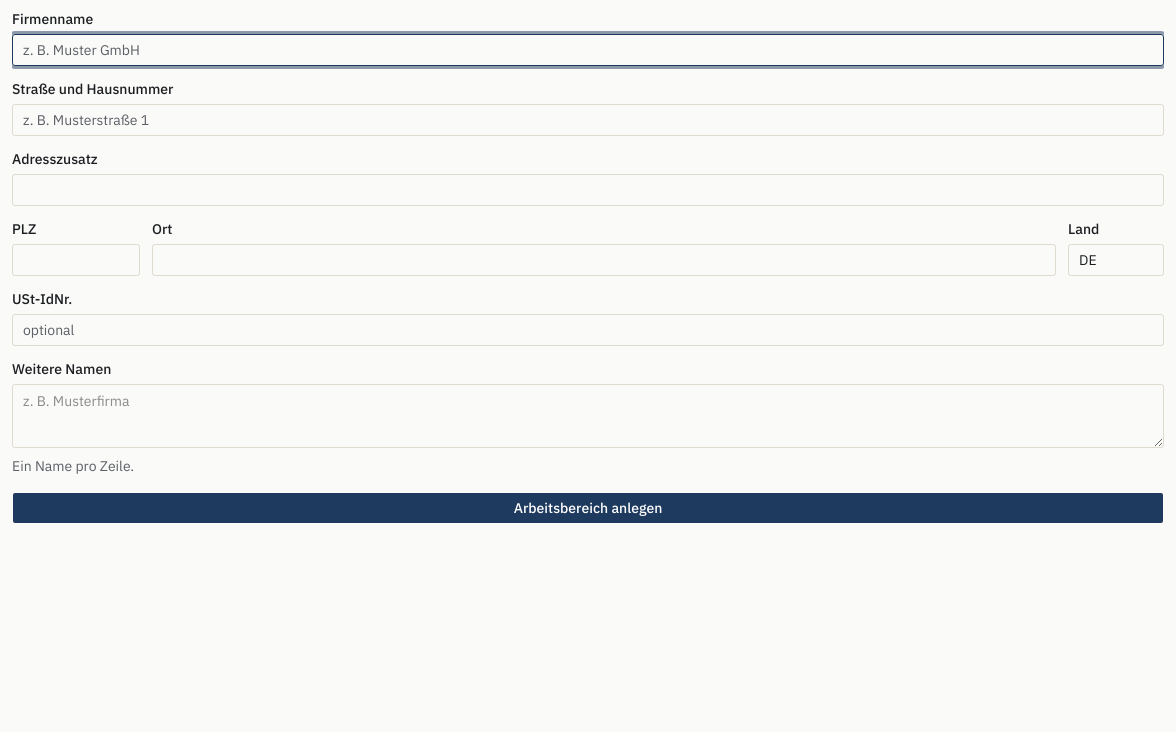
OnboardingForm › shows the mapped error message and does not redirect when the action returns an error
The image size is (1176, 732).
Type "Muster GmbH" into the field labelled "Firmenname". click: [588, 50]
box: [12,34,1164,66]
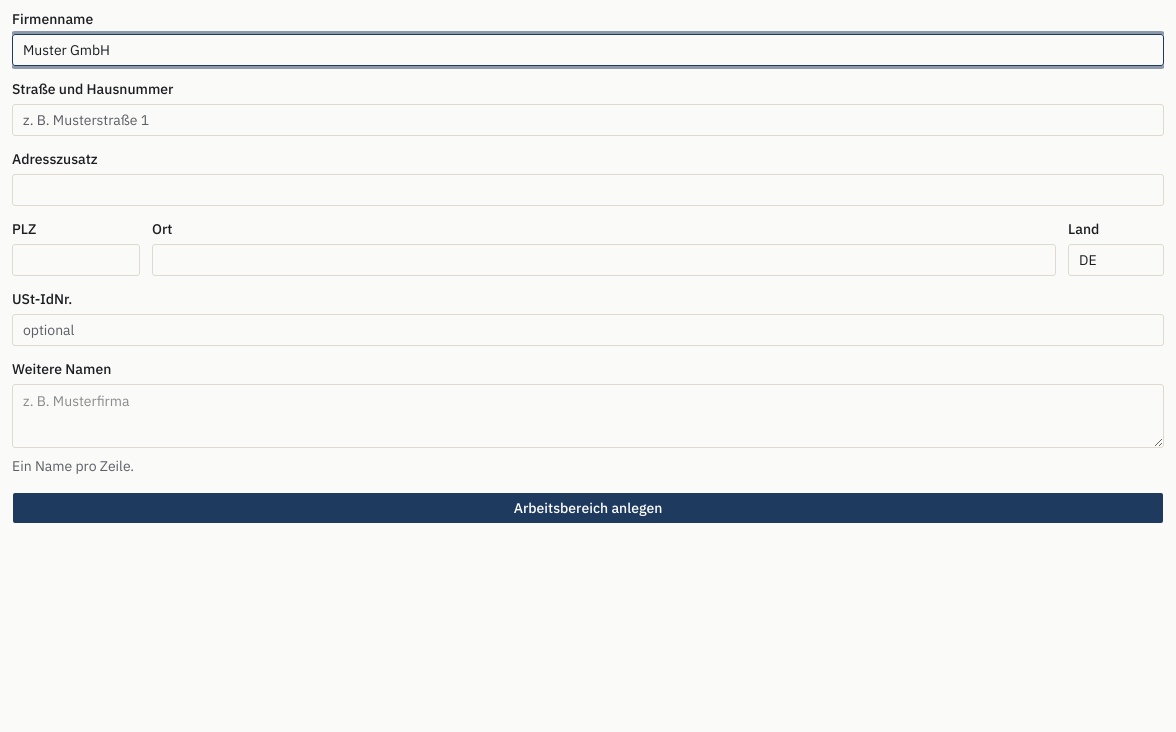
Type "Musterstraße 1" into the field labelled "Straße und Hausnummer". click: [588, 120]
box: [12,104,1164,136]
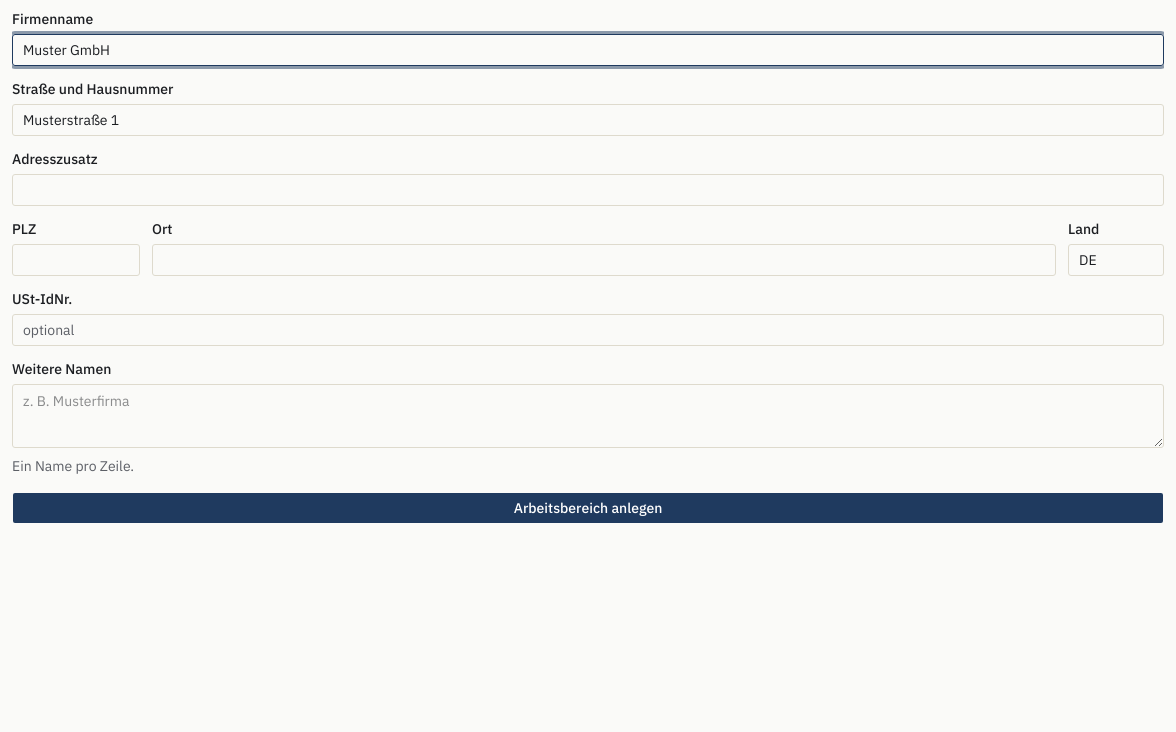
Type "10115" into the field labelled "PLZ". click: [76, 260]
box: [12,244,140,276]
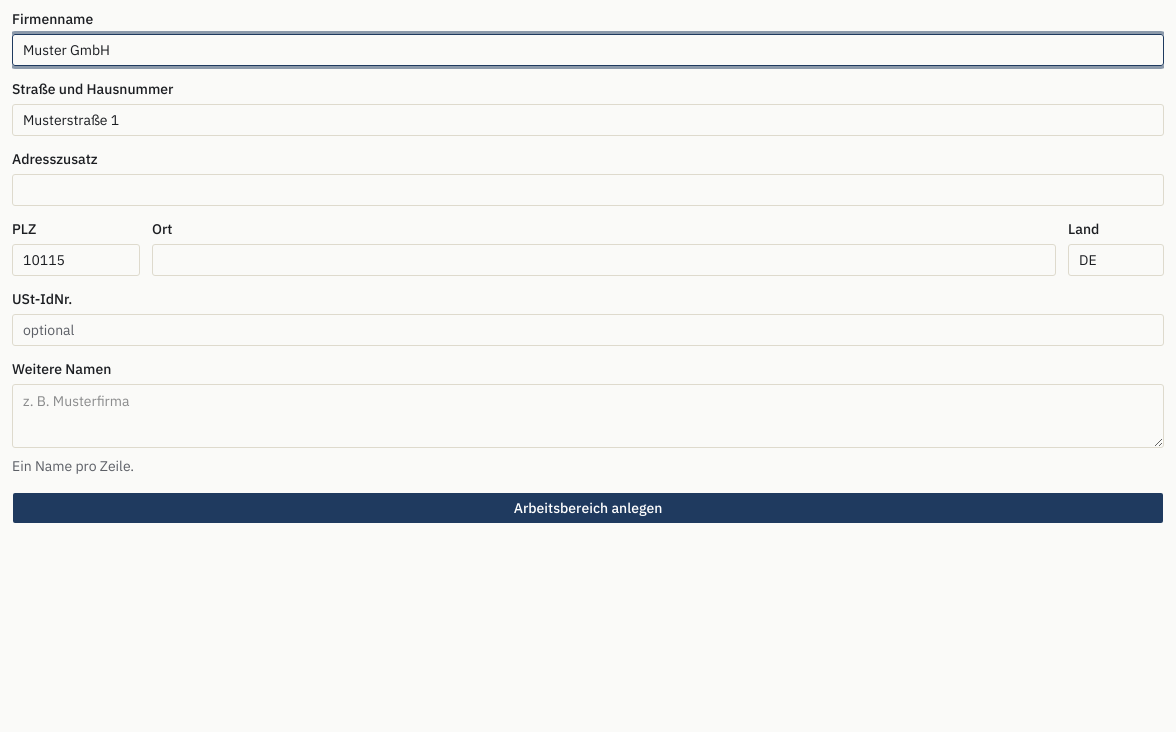
Type "Berlin" into the field labelled "Ort". click: [604, 260]
box: [152,244,1056,276]
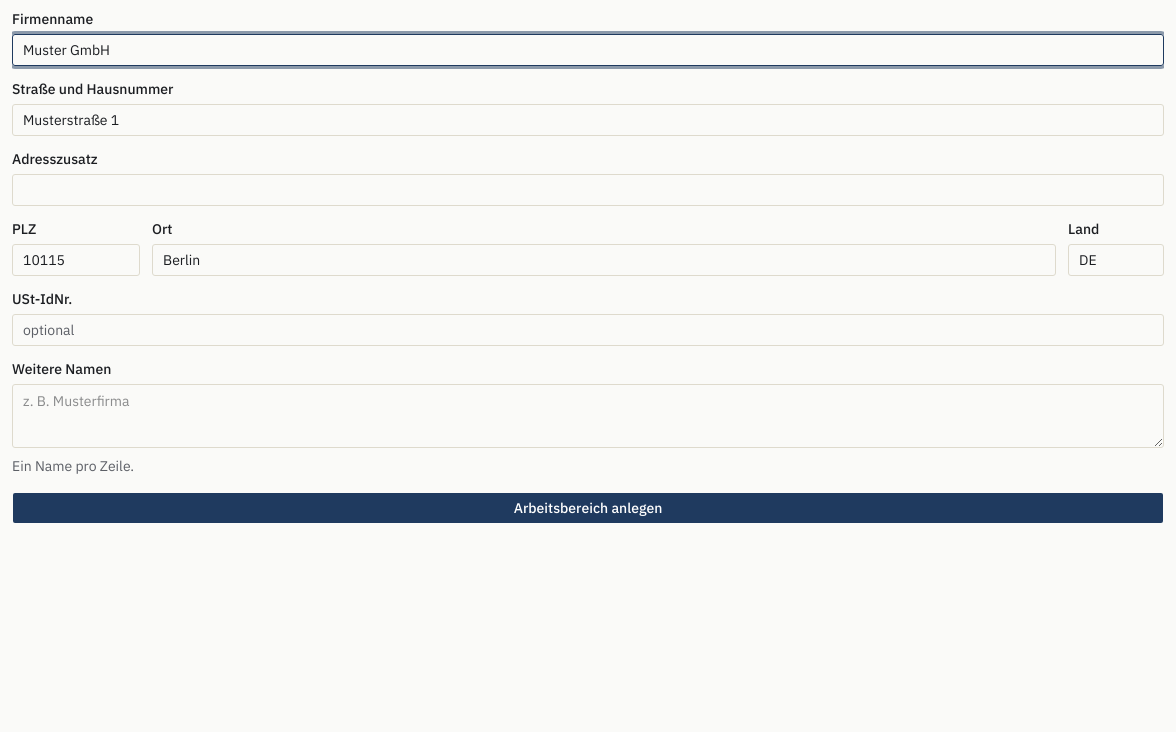
Click the button "Arbeitsbereich anlegen". click: [588, 508]
box: [12,492,1164,524]
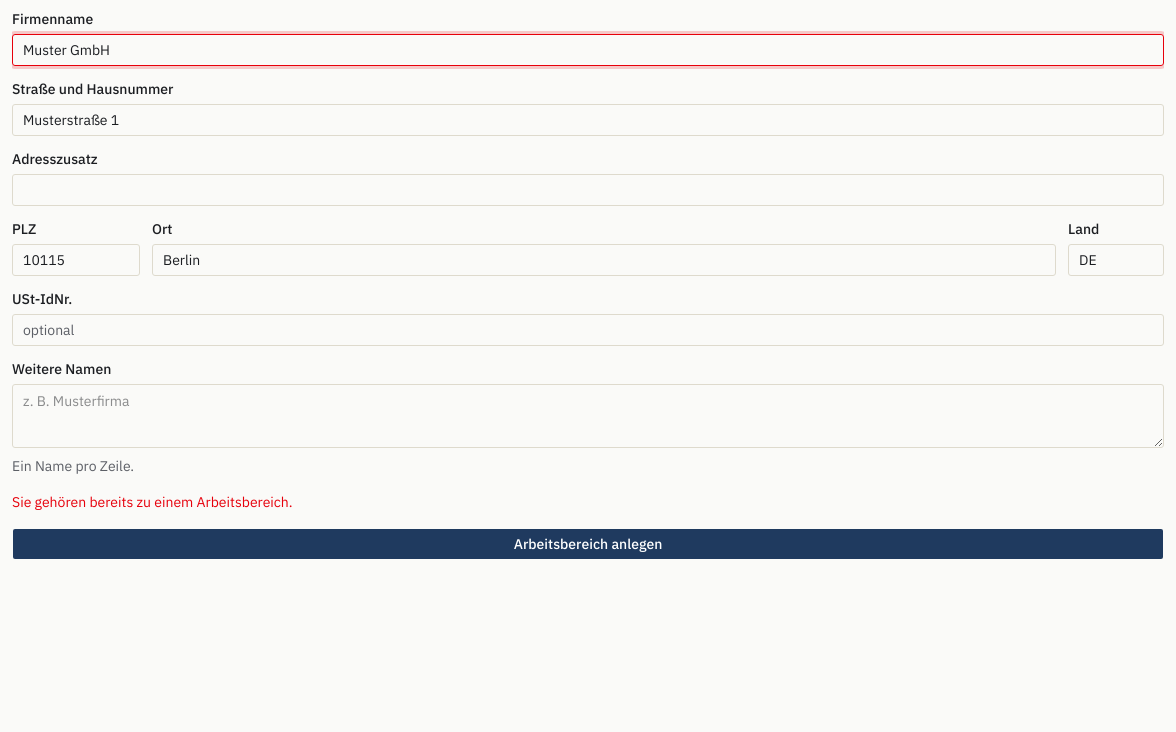
Check: the text "Sie gehören bereits zu einem Arbeitsbereich." is shown, box [12,493,293,511]
